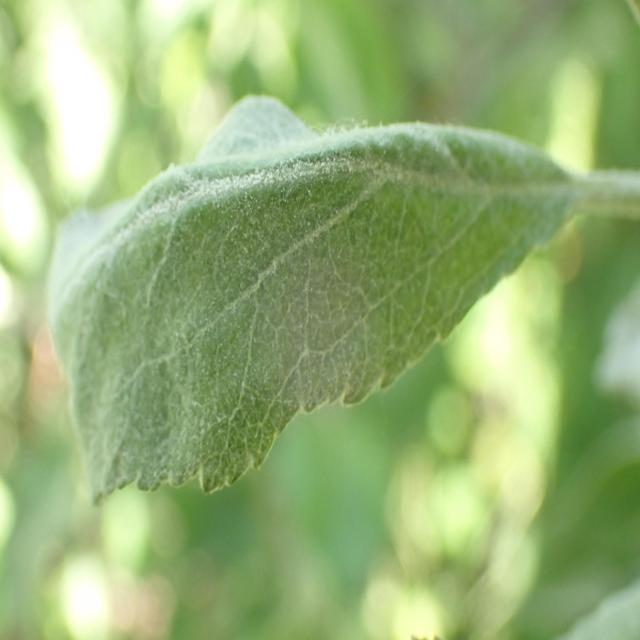Powdery_mildew: (56, 65, 595, 510)
